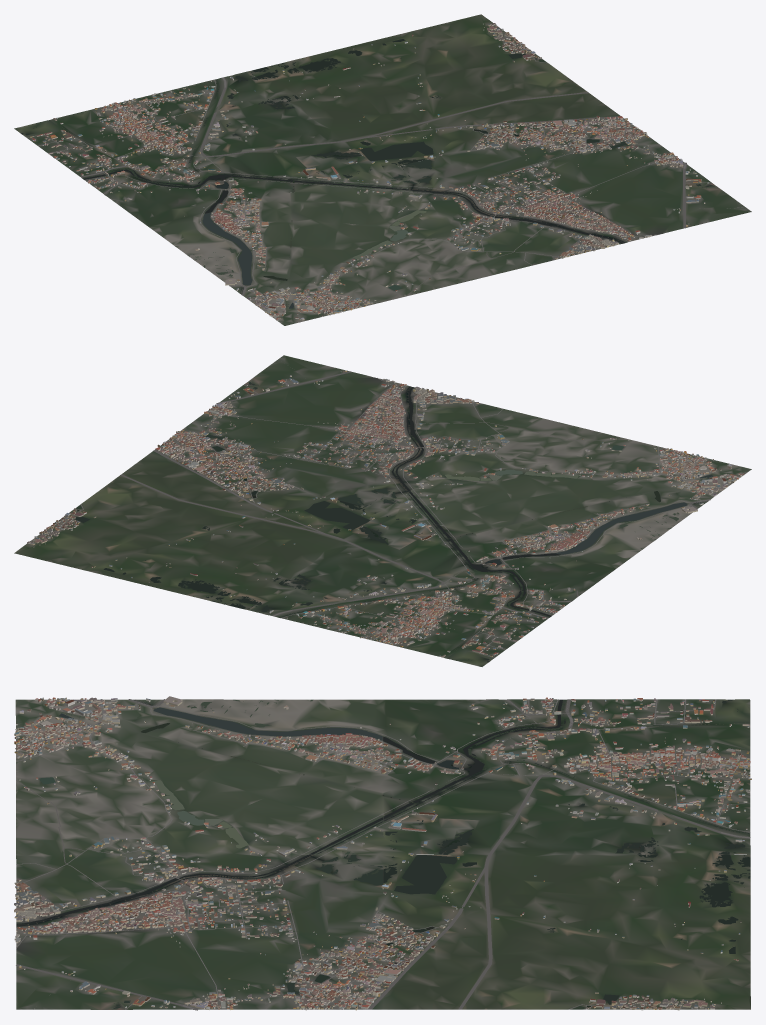
The picture shows the model from 3 angles, top to bottom: view 1: azimuth 30°, elevation 25°; view 2: azimuth 150°, elevation 25°; view 3: azimuth 270°, elevation 25°; orthographic projection. The views are drawn at different scales.
Parts seen in each view (by area): view 1: ground, buildings, water, roads; view 2: ground, buildings, water, roads; view 3: ground, buildings, water, roads.
Part boxes in pixels (<box>): ground: <box>14,14,751,325</box>; buildings: <box>30,23,709,320</box>; water: <box>21,39,714,308</box>; roads: <box>27,28,743,312</box>; ground: <box>14,355,751,666</box>; buildings: <box>27,370,744,657</box>; water: <box>75,381,713,661</box>; roads: <box>40,368,730,657</box>; ground: <box>15,699,750,1009</box>; buildings: <box>14,696,751,1010</box>; water: <box>16,699,750,1009</box>; roads: <box>16,699,750,1010</box>.
Bounding box in the file's own units: 2827 × 25.02 × 2817.
